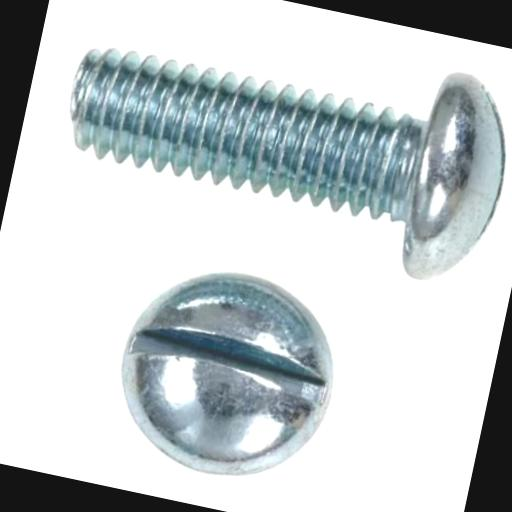Slotted: (108, 250, 351, 492)
